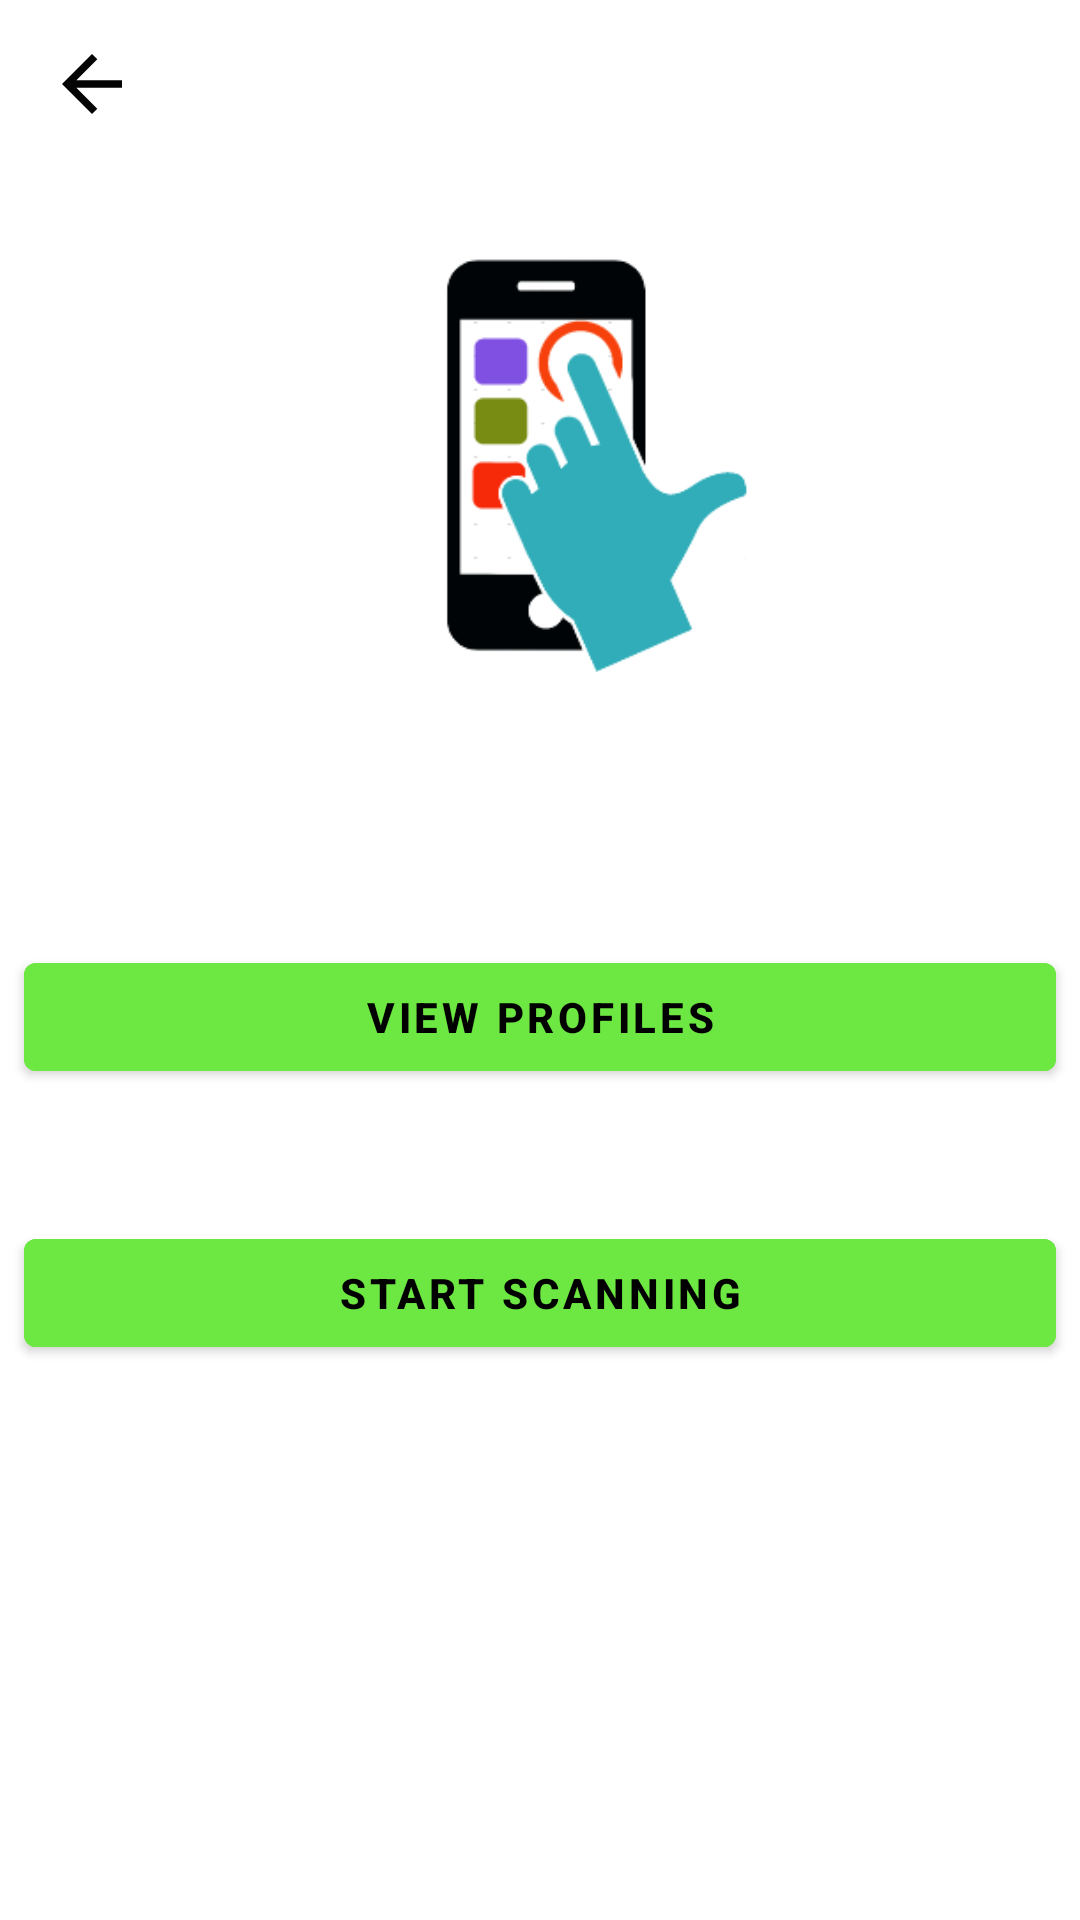

Icon bounding boxes for this 1080w x 1920h phone screenshot, format (x1, y1, x2, y2):
back arrow: (62, 54, 122, 114)
